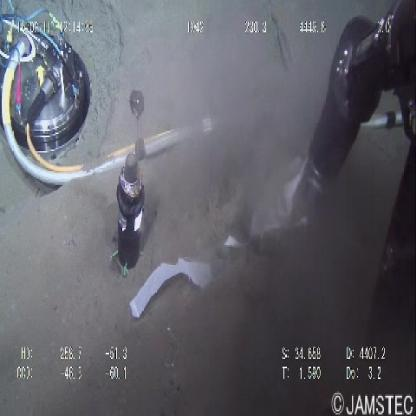Rov: (307, 2, 416, 294), (1, 1, 93, 190), (104, 82, 149, 291)
Rác: (127, 162, 306, 328)
